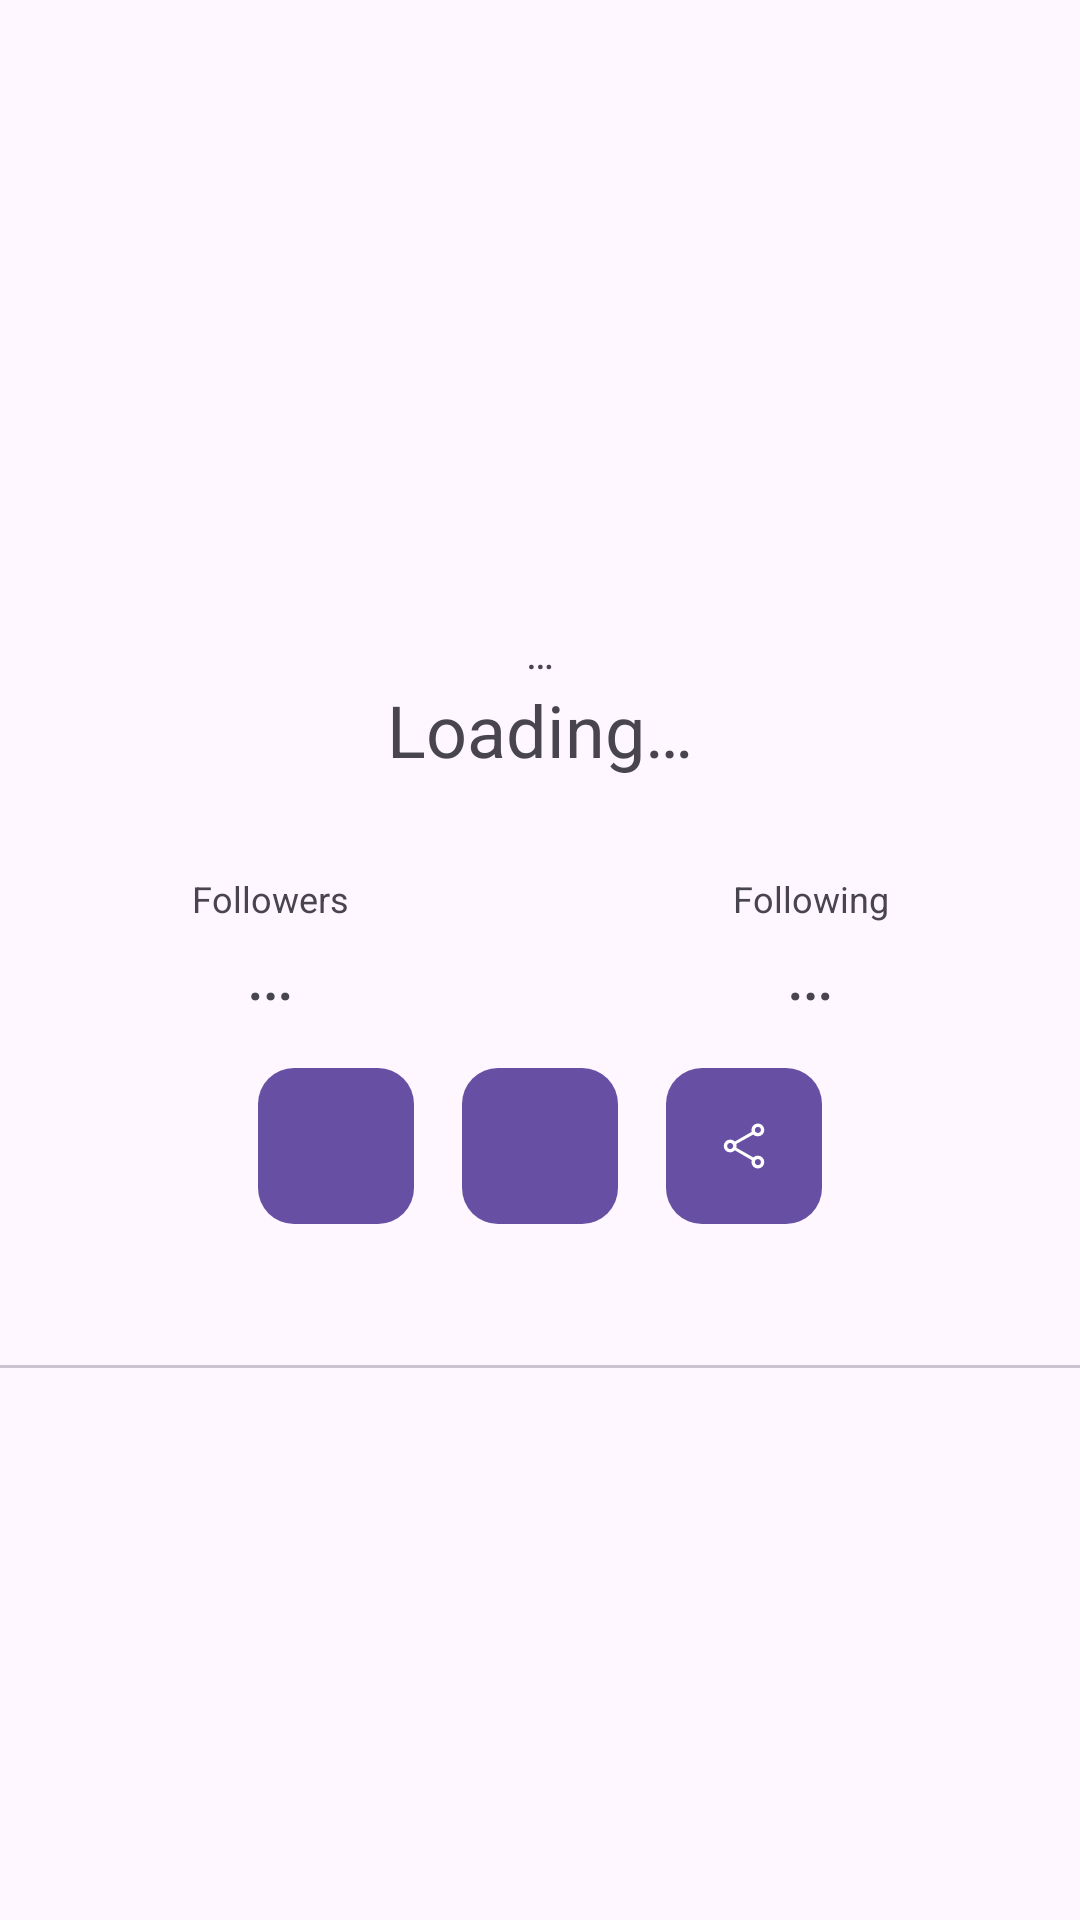

Where icons sit on this 1080 x 1920 app screen, as (x1,y1,x2,y2):
share: (666,1068,822,1224)
